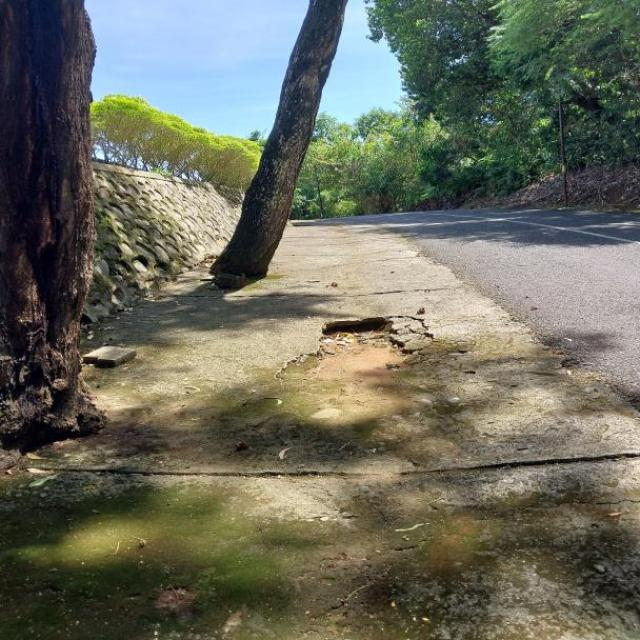tree ahead at: (218, 0, 348, 282)
